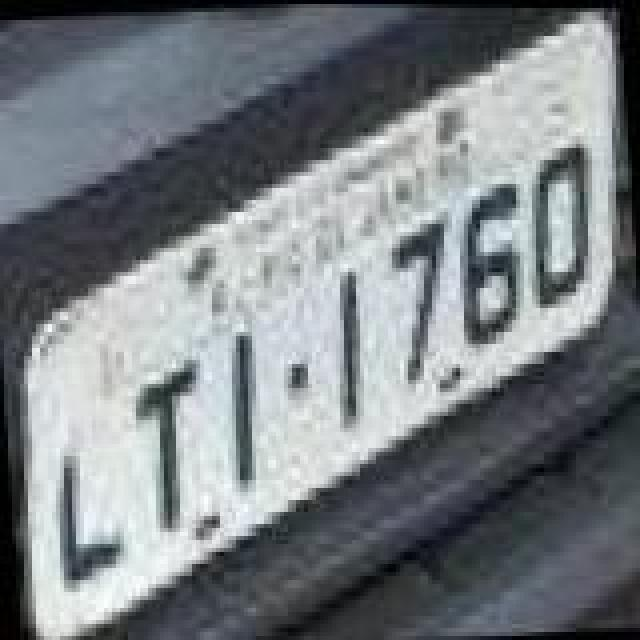1: (328, 264, 376, 440), (226, 324, 270, 496)
6: (452, 176, 532, 348)
7: (386, 212, 462, 388)
L: (50, 452, 126, 600)
O: (520, 134, 600, 310)
T: (128, 354, 208, 538)
